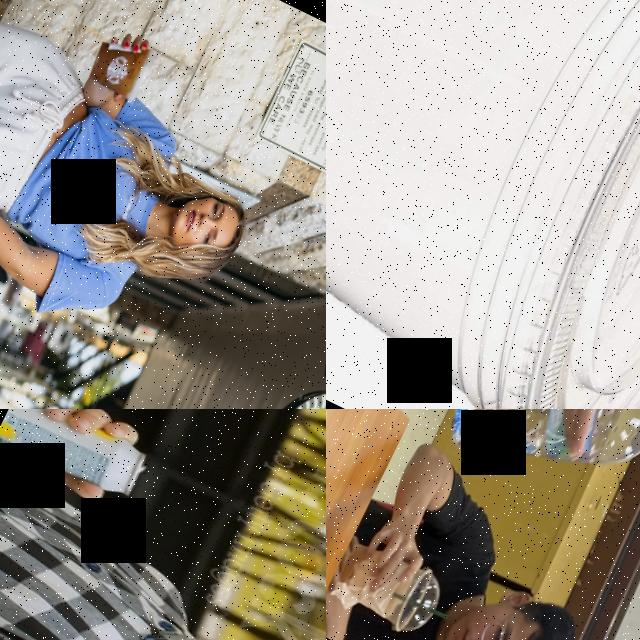bottle: (433, 409, 640, 533)
can: (0, 409, 154, 504)
cup: (326, 0, 640, 409), (326, 532, 449, 640), (80, 27, 158, 106)
